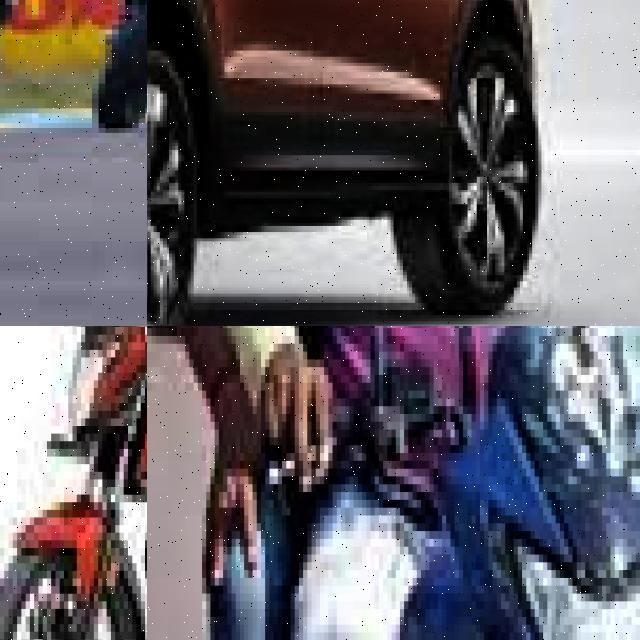bike: (223, 326, 640, 640), (0, 326, 147, 640), (72, 0, 147, 143)
car: (147, 0, 640, 326)
